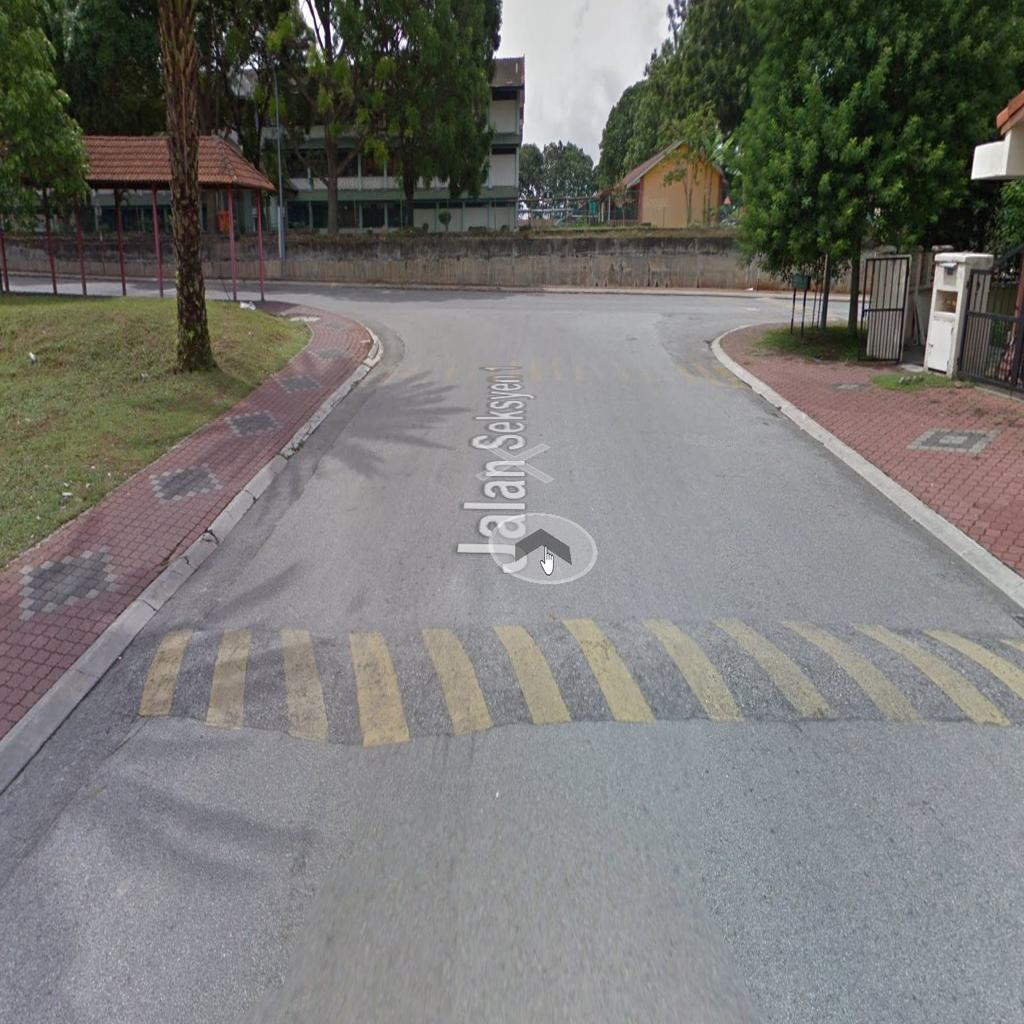Junction: (204, 227, 448, 414), (665, 238, 872, 419)
